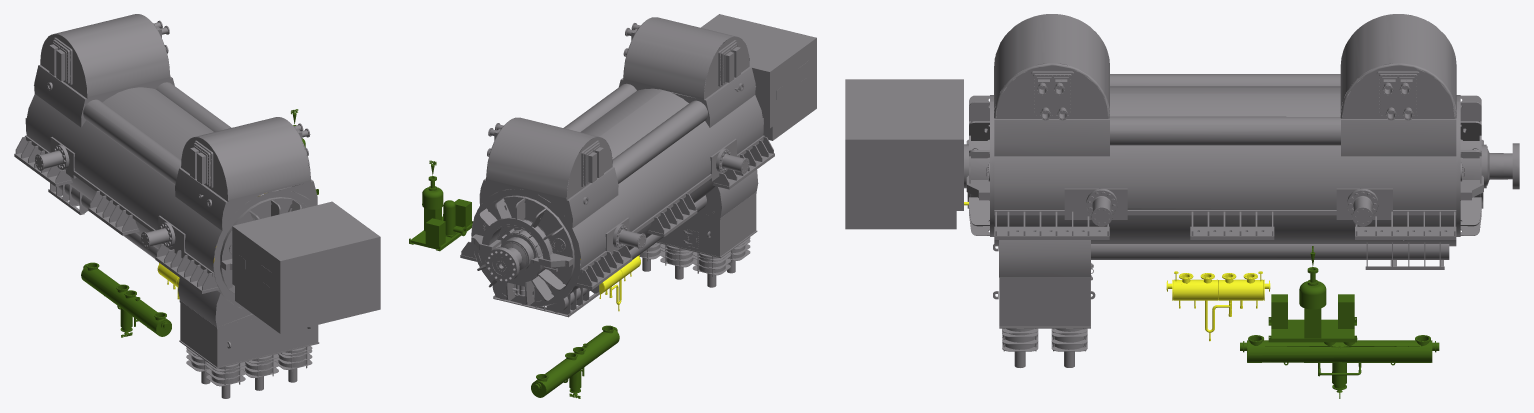
Rendered from modelv20_3.glb.
The picture shows the model from 3 angles, left to right: view 1: azimuth 30°, elevation 25°; view 2: azimuth 150°, elevation 25°; view 3: azimuth 270°, elevation 25°; orthographic projection. The views are drawn at different scales.
Parts seen in each view (by area): view 1: Mesh.5924, Mesh.6531, Mesh.6108, Mesh.6050, Mesh.6536, Mesh.6119, Mesh.5956, Mesh.856, Mesh.5955, Mesh.5954, Mesh.6017, Mesh.5925 (+8 smaller); view 2: Mesh.5924, Mesh.6108, Mesh.6050, Mesh.6531, Mesh.6536, Mesh.6119, Mesh.5956, Mesh.860, Mesh.5834, Mesh.5954, Mesh.856, Mesh.5955 (+13 smaller); view 3: Mesh.5924, Mesh.6531, Mesh.6108, Mesh.6050, Mesh.6536, Mesh.5957, Mesh.6516, Mesh.856, Mesh.6033, Mesh.5954, Mesh.5955, Mesh.6119 (+10 smaller).
Part boxes in pixels (x1,y1,x2,y2): Mesh.5924: [26, 87, 314, 310]; Mesh.6531: [232, 201, 380, 333]; Mesh.6108: [40, 14, 170, 98]; Mesh.6050: [181, 117, 310, 201]; Mesh.6536: [233, 202, 379, 261]; Mesh.6119: [180, 303, 318, 367]; Mesh.5956: [83, 99, 181, 184]; Mesh.856: [81, 262, 171, 336]; Mesh.5955: [175, 159, 317, 230]; Mesh.5954: [34, 56, 174, 127]; Mesh.6017: [178, 278, 257, 327]; Mesh.5925: [25, 135, 214, 276]; Mesh.5924: [471, 88, 763, 306]; Mesh.6108: [486, 117, 612, 200]; Mesh.6050: [623, 17, 749, 99]; Mesh.6531: [703, 14, 816, 140]; Mesh.6536: [701, 14, 815, 72]; Mesh.6119: [658, 194, 756, 256]; Mesh.5956: [612, 100, 707, 183]; Mesh.860: [409, 178, 472, 251]; Mesh.5834: [476, 195, 574, 301]; Mesh.5954: [479, 167, 618, 228]; Mesh.856: [531, 325, 619, 397]; Mesh.5955: [619, 66, 755, 127]; Mesh.5924: [994, 86, 1456, 246]; Mesh.6531: [845, 79, 963, 229]; Mesh.6108: [1340, 14, 1456, 118]; Mesh.6050: [994, 14, 1109, 118]; Mesh.6536: [845, 79, 963, 139]; Mesh.5957: [1110, 116, 1340, 145]; Mesh.6516: [1091, 244, 1449, 259]; Mesh.856: [1243, 335, 1436, 390]; Mesh.6033: [994, 188, 1456, 219]; Mesh.5954: [1341, 69, 1456, 156]; Mesh.5955: [994, 70, 1109, 156]; Mesh.6119: [999, 280, 1090, 326].
Size of the model in its own units: 70.81 by 80.35 by 137.
